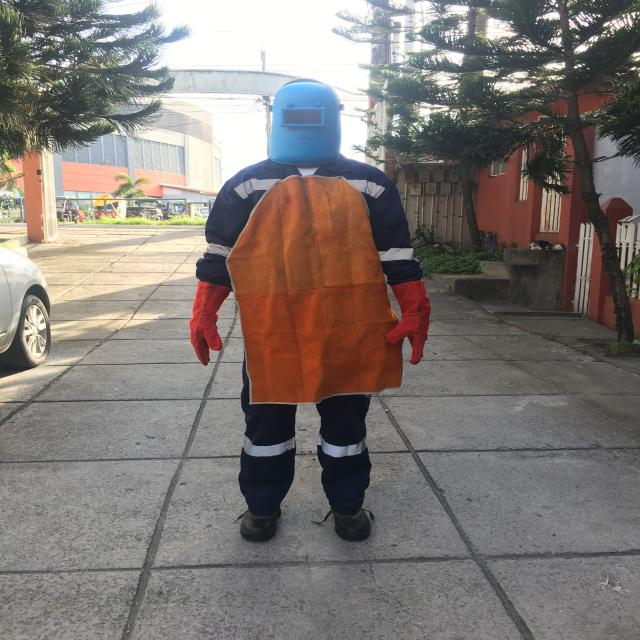with_helmet: (269, 81, 341, 165)
